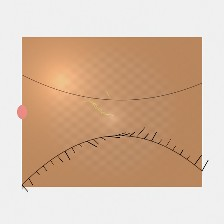corneal_ulcer: (80, 87, 134, 131)
